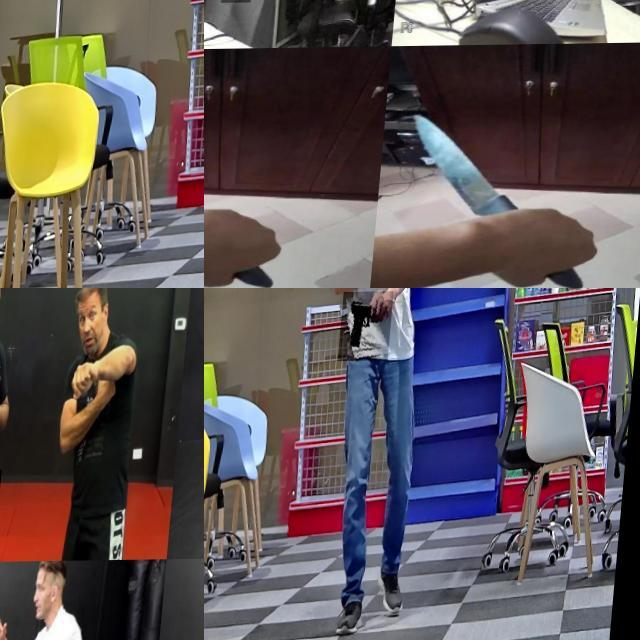-: (398, 107, 568, 237), (204, 118, 258, 225), (0, 470, 27, 539), (225, 0, 258, 20), (593, 0, 608, 40)
gun-knife-thesis - v11 Yolov5 augmented: (343, 293, 398, 362)
